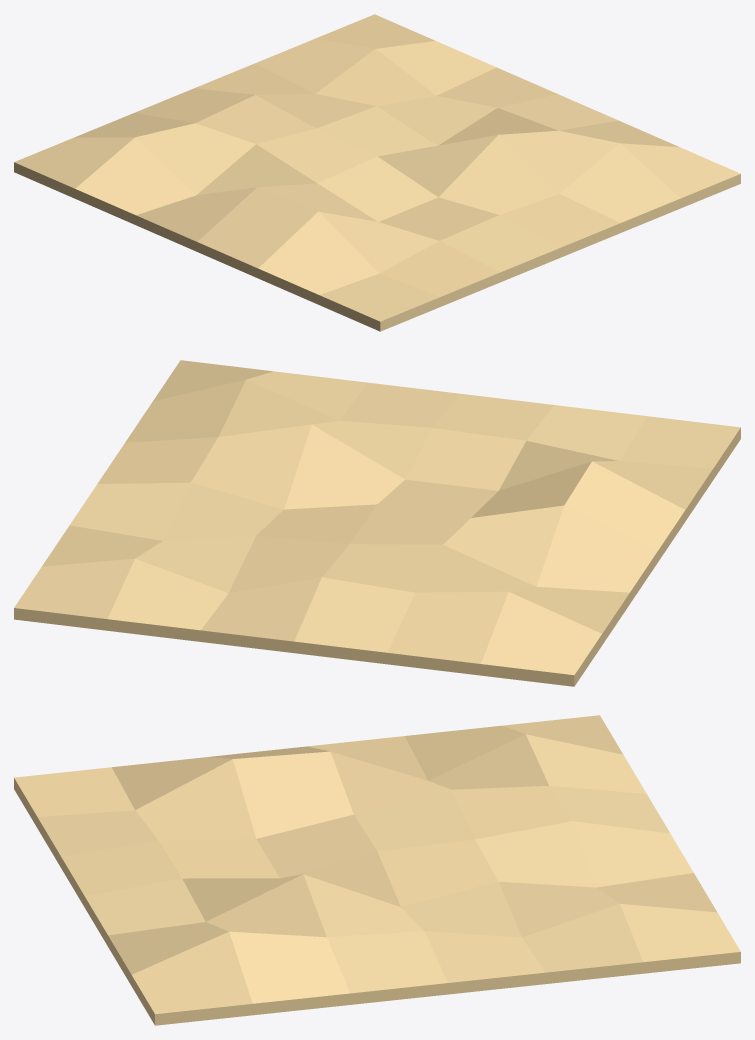
Rendered from Sand 3.fbx.
The picture shows the model from 3 angles, top to bottom: view 1: azimuth 30°, elevation 25°; view 2: azimuth 150°, elevation 25°; view 3: azimuth 270°, elevation 25°; orthographic projection. The views are drawn at different scales.
Parts seen in each view (by area): view 1: Sand 3; view 2: Sand 3; view 3: Sand 3.
Boxes of the visible parts, x1=… form: Sand 3: x1=14, y1=14, x2=740, y2=331; Sand 3: x1=14, y1=360, x2=740, y2=686; Sand 3: x1=14, y1=715, x2=740, y2=1025.
Size of the model in its own units: 677 by 696 by 54.74.
